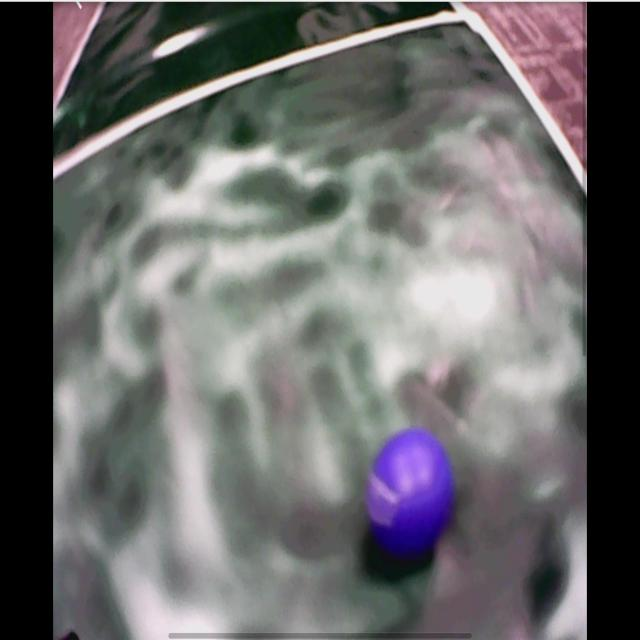ball: (371, 429, 454, 553)
